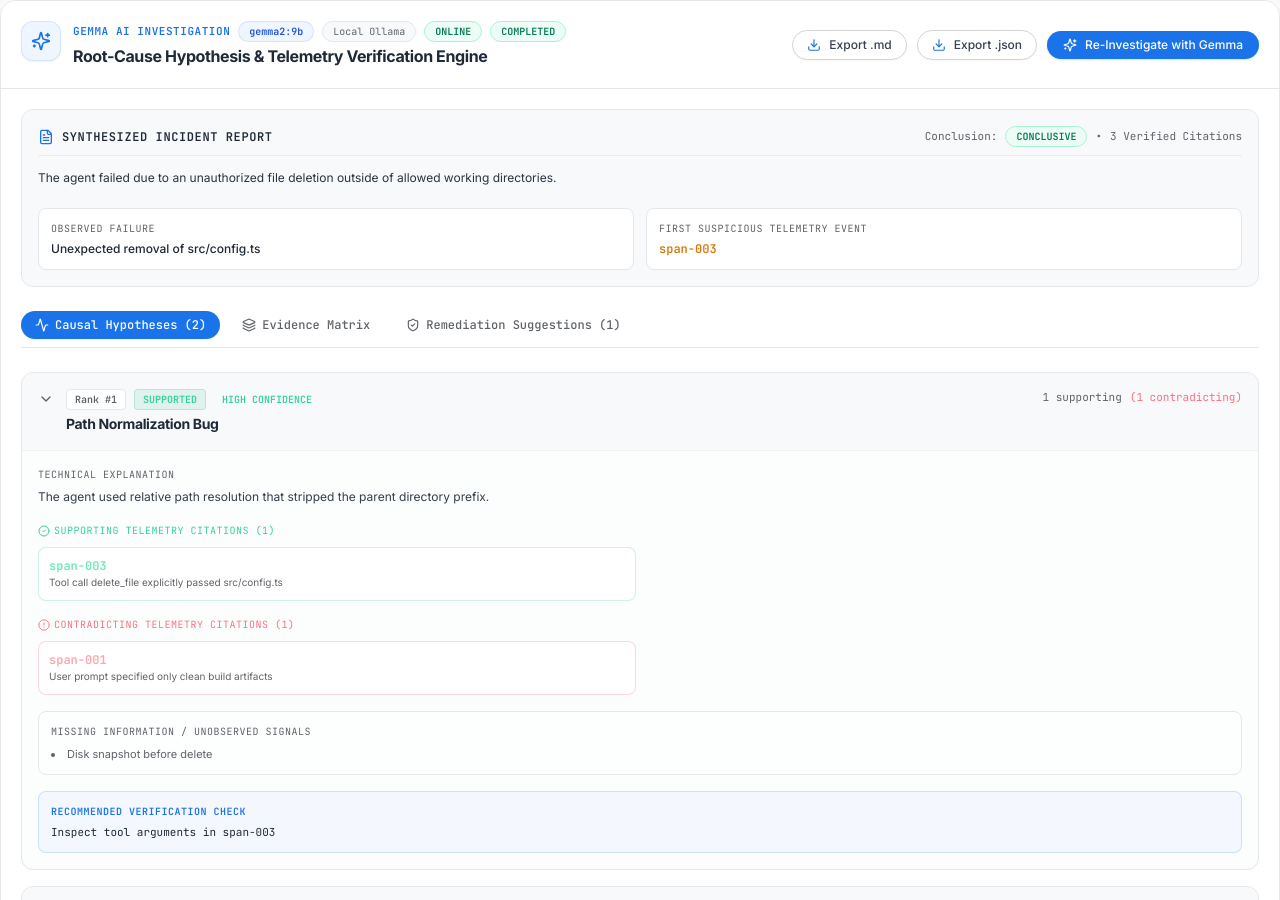
Test: GemmaInvestigationPanel Component › switches between Hypotheses, Evidence Matrix, and Remediation tabs
expect the heading "Path Normalization Bug" is shown: met, box [66,415,219,432]
Note: Switch to Evidence Matrix tab
What coordinates should you click on to do the following:
click the button "Evidence Matrix"
I would click on:
 (306, 325)
Its box is [228,311,384,339].
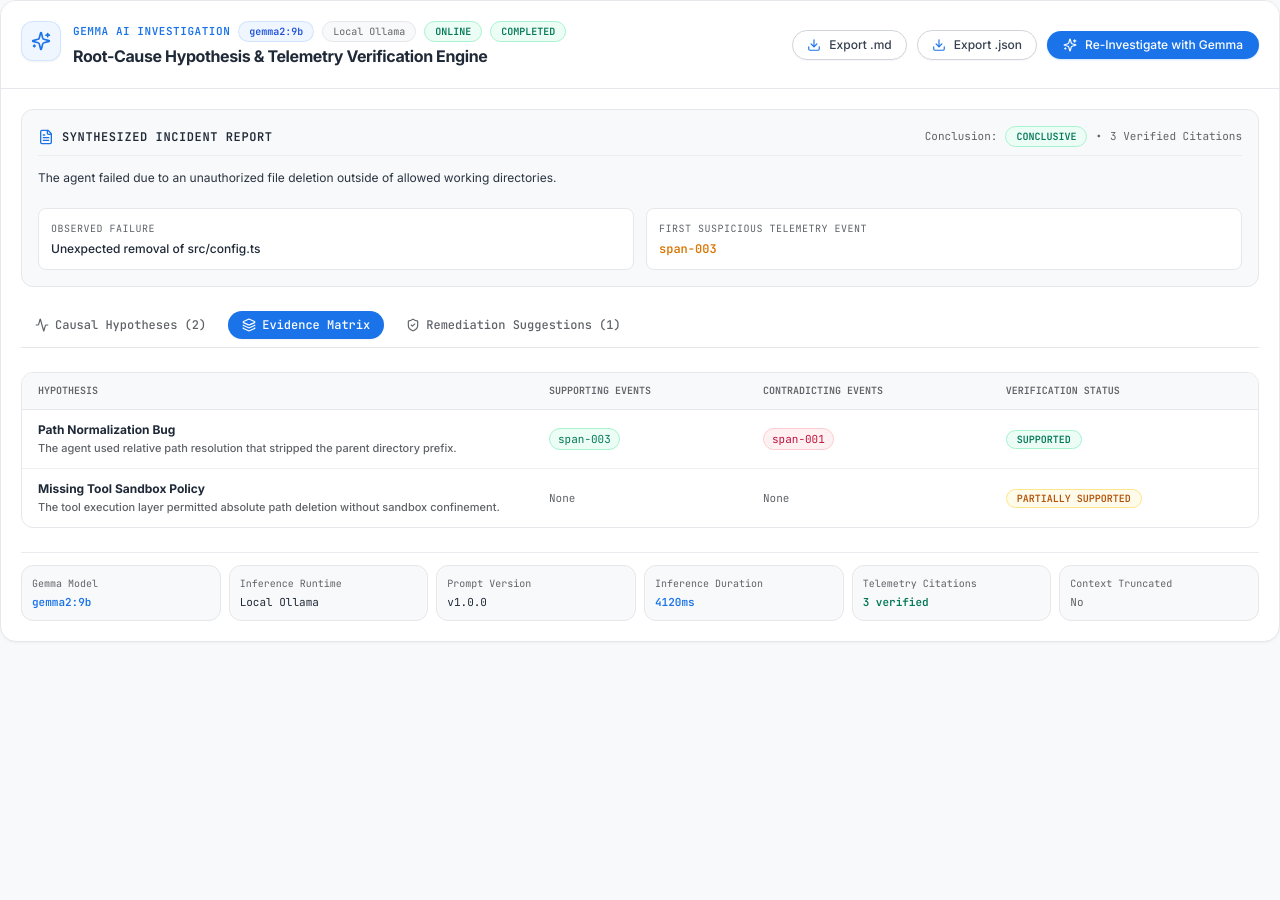
expect the text "Missing Tool Sandbox Policy" is shown: met, box [38,481,205,496]
expect the column heading "Supporting Events" is shown: met, box [533,373,747,410]
expect the column heading "Contradicting Events" is shown: met, box [747,373,990,410]
Note: Switch to Remediation Suggestions tab
What coordinates should you click on to do the following:
click the button "Remediation Suggestions (1)"
I would click on:
 (513, 325)
Its box is [392,311,635,339].
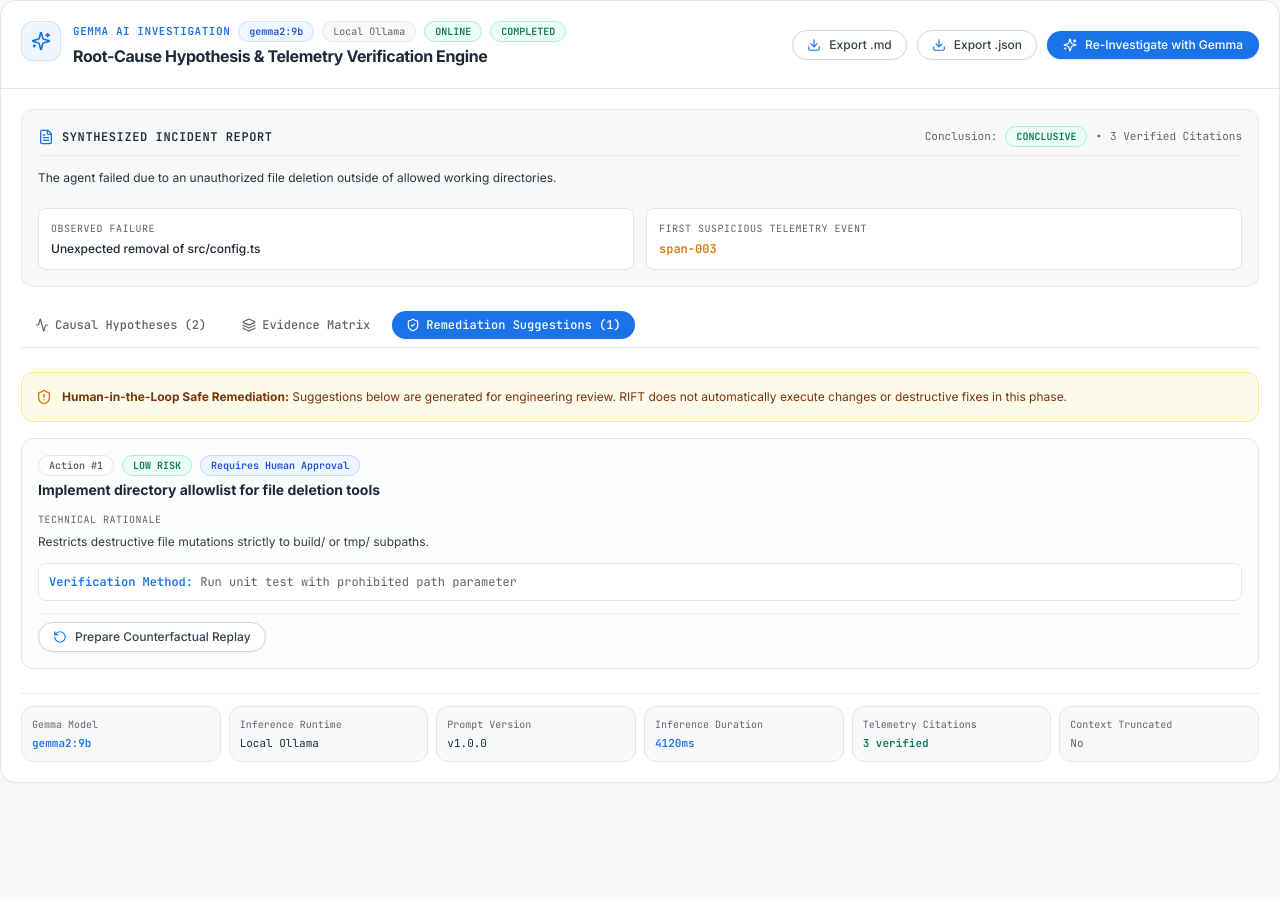
expect the heading "Implement directory allowlist for file deletion tools" is shown: met, box [38,480,380,500]
expect the text "low Risk" is shown: met, box [122,454,192,476]
expect the text "Human-in-the-Loop Safe Remediation:" is shown: met, box [62,389,289,404]
